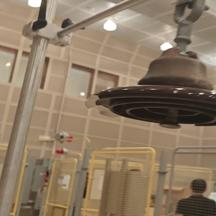insulator: (79, 40, 216, 135)
